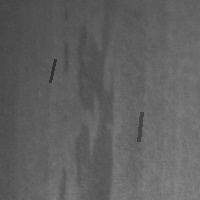inclusion: (71, 25, 115, 198), (48, 57, 57, 84), (136, 110, 143, 143)
